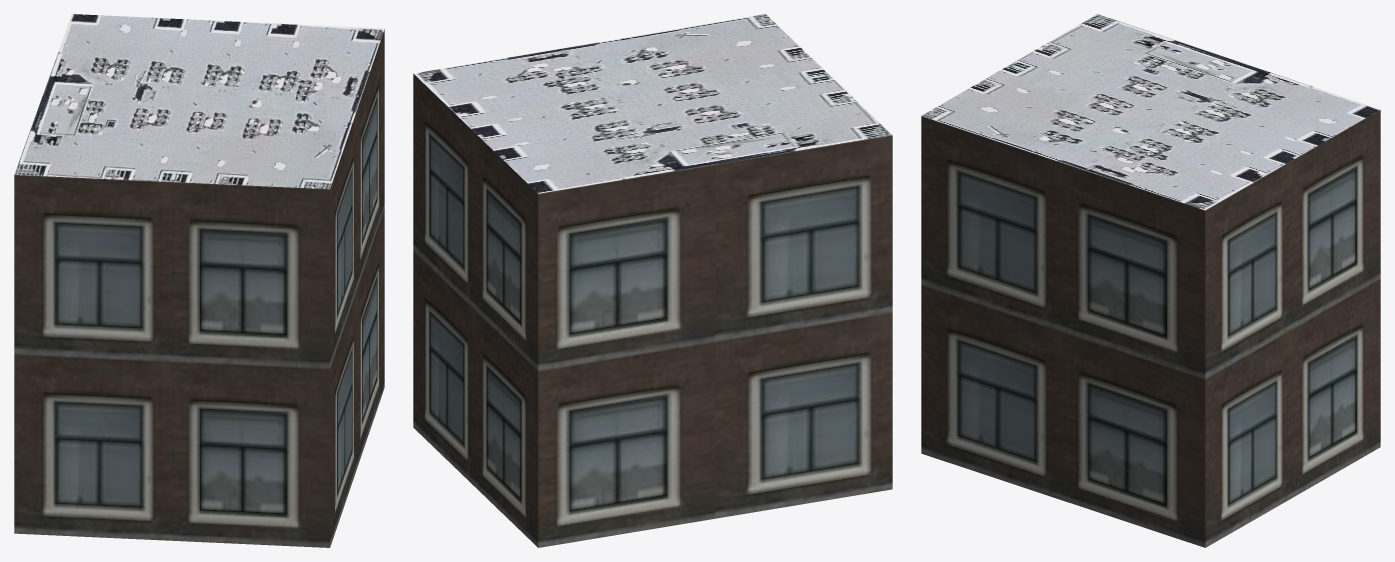
File: ResTex__349.fbx
3 views of the same model, side by side, from view 1: azimuth 30°, elevation 25°; view 2: azimuth 150°, elevation 25°; view 3: azimuth 270°, elevation 25° (orthographic). The views are drawn at different scales.
Parts seen in each view (by area): view 1: CityEngineMaterial_16_m, CityEngineMaterial_15_m; view 2: CityEngineMaterial_16_m, CityEngineMaterial_15_m; view 3: CityEngineMaterial_16_m, CityEngineMaterial_15_m.
Boxes of the visible parts, box(x1,y1,x2,y2) form: CityEngineMaterial_16_m: box(14, 29, 384, 547); CityEngineMaterial_15_m: box(14, 14, 384, 189); CityEngineMaterial_16_m: box(413, 74, 892, 547); CityEngineMaterial_15_m: box(414, 14, 891, 193); CityEngineMaterial_16_m: box(921, 110, 1380, 547); CityEngineMaterial_15_m: box(922, 14, 1380, 210).
Size of the model in its own units: 7.49 by 6 by 7.4.
Materials: 2 (2 with a texture image).
